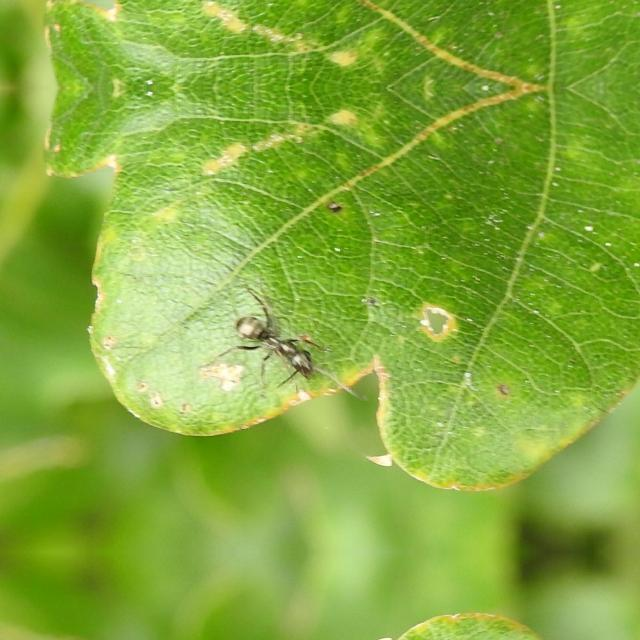Formica: (207, 258, 343, 398)
